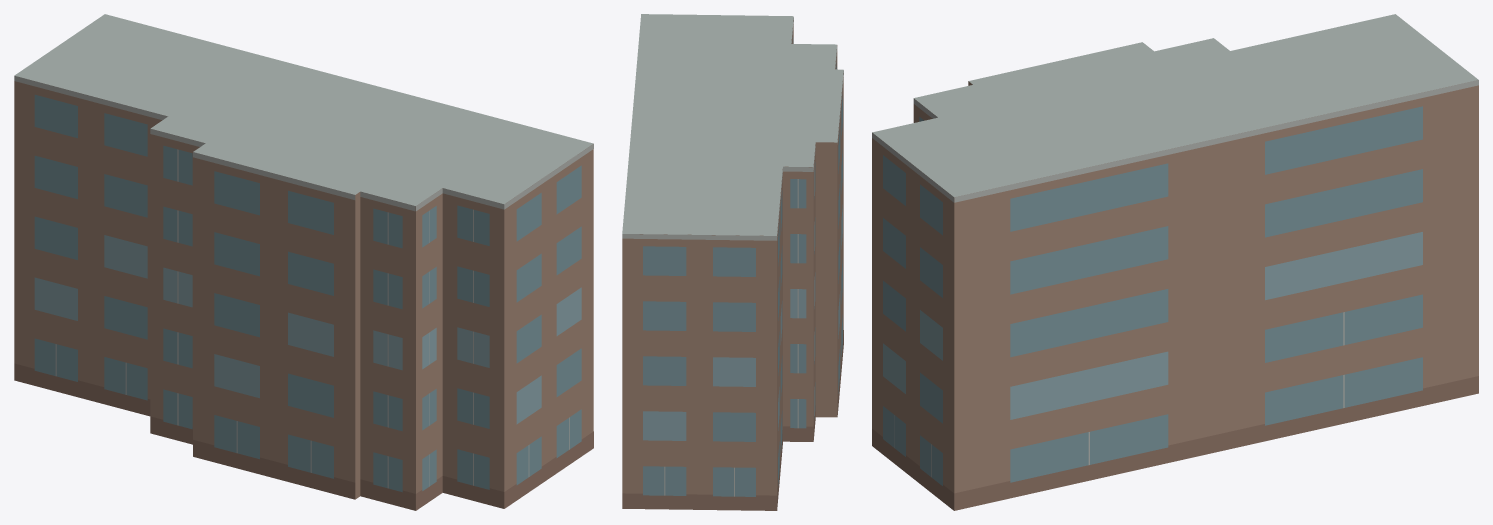
File: survey-upis-32797412.glb
3 renders of one model, left to right at view 1: azimuth 30°, elevation 25°; view 2: azimuth 150°, elevation 25°; view 3: azimuth 270°, elevation 25°, orthographic. The views are drawn at different scales.
Visible parts, largest first — view 1: survey-upis-32797412.tmp; view 2: survey-upis-32797412.tmp; view 3: survey-upis-32797412.tmp.
Part boxes in pixels (x1,y1,x2,y2): survey-upis-32797412.tmp: (14, 14, 593, 510); survey-upis-32797412.tmp: (622, 14, 843, 510); survey-upis-32797412.tmp: (872, 14, 1478, 510).
Size of the model in its own units: 17.44 by 13.9 by 24.38.
